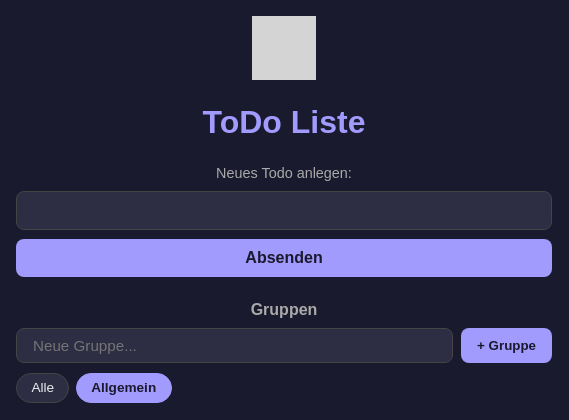
Test case: App component › kann eine neue Gruppe hinzufügen
This screenshot has width=569, height=420.
Type "Sport" into the field with placeholder "Neue Gruppe..." at (235, 346), box [16,328,453,363]
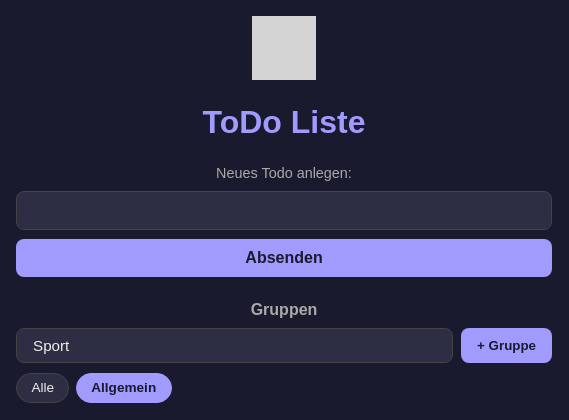
Click the button "+ Gruppe" at (507, 346), box [461,328,552,363]
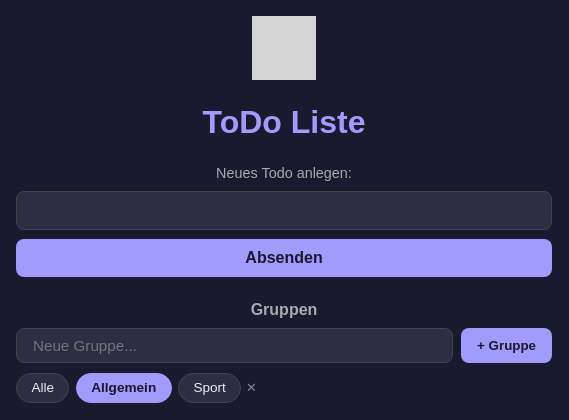
Check: the button "Sport" is shown, box [178,373,241,403]
